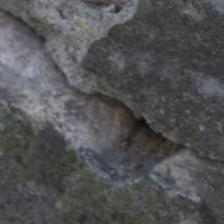Crack: (3, 6, 215, 159)
